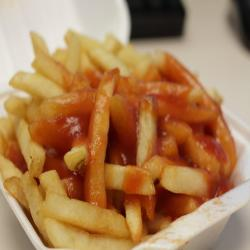fries: (2, 41, 219, 242)
